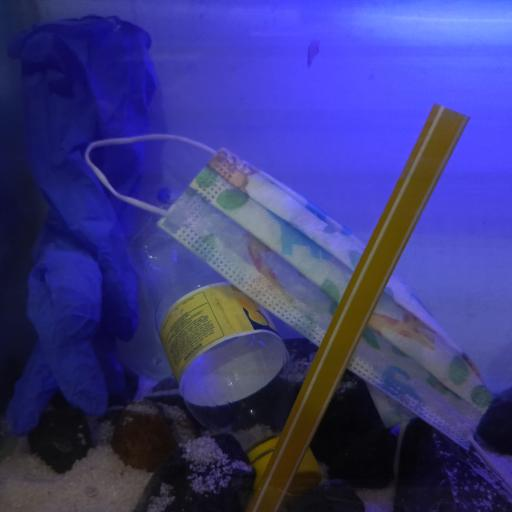bottle_cap: (252, 453, 326, 495)
glove: (11, 11, 172, 442)
mask: (82, 131, 497, 450)
plastic_bottle: (134, 227, 327, 495)
plastic_straw: (248, 101, 469, 512)
